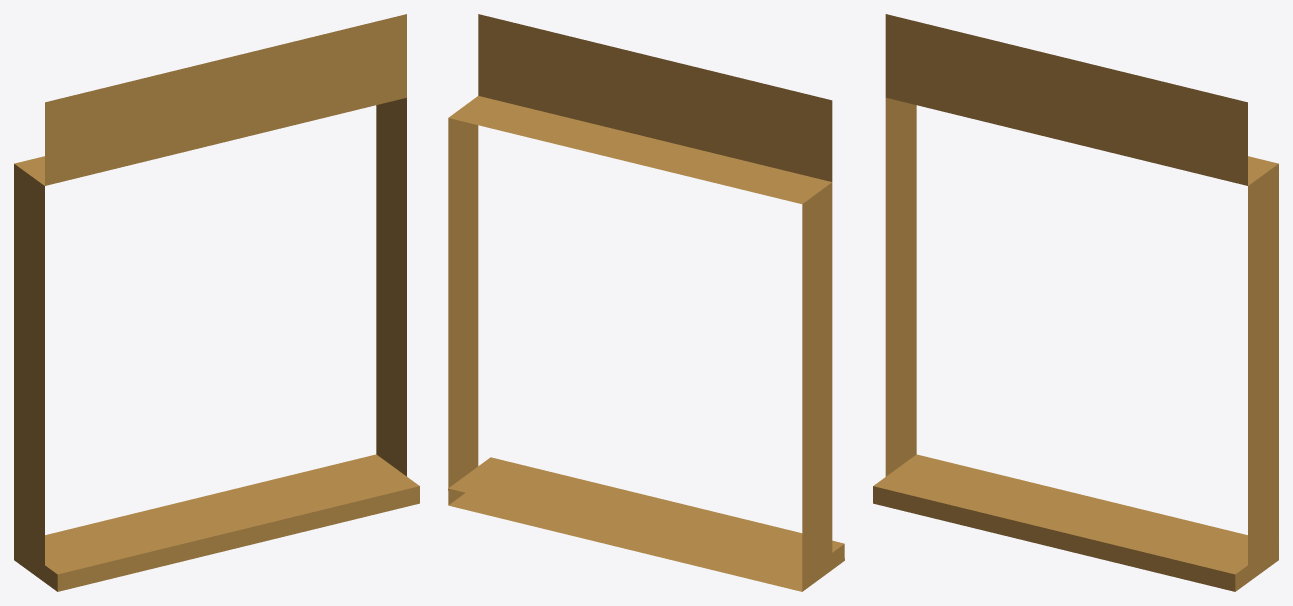
File: Itr_Wall_Color_05(for_window).FBX
3 renders of one model, left to right at view 1: azimuth 30°, elevation 25°; view 2: azimuth 150°, elevation 25°; view 3: azimuth 330°, elevation 25°, orthographic. The views are drawn at different scales.
Visible parts, largest first — view 1: Itr_Wall_Color_05(for_window); view 2: Itr_Wall_Color_05(for_window); view 3: Itr_Wall_Color_05(for_window).
Boxes of the visible parts, <box> form: Itr_Wall_Color_05(for_window): <box>14,14,419,591</box>; Itr_Wall_Color_05(for_window): <box>448,14,844,591</box>; Itr_Wall_Color_05(for_window): <box>873,14,1278,591</box>.
Bounding box in the file's own units: 65.28 × 82.71 × 13.59.
